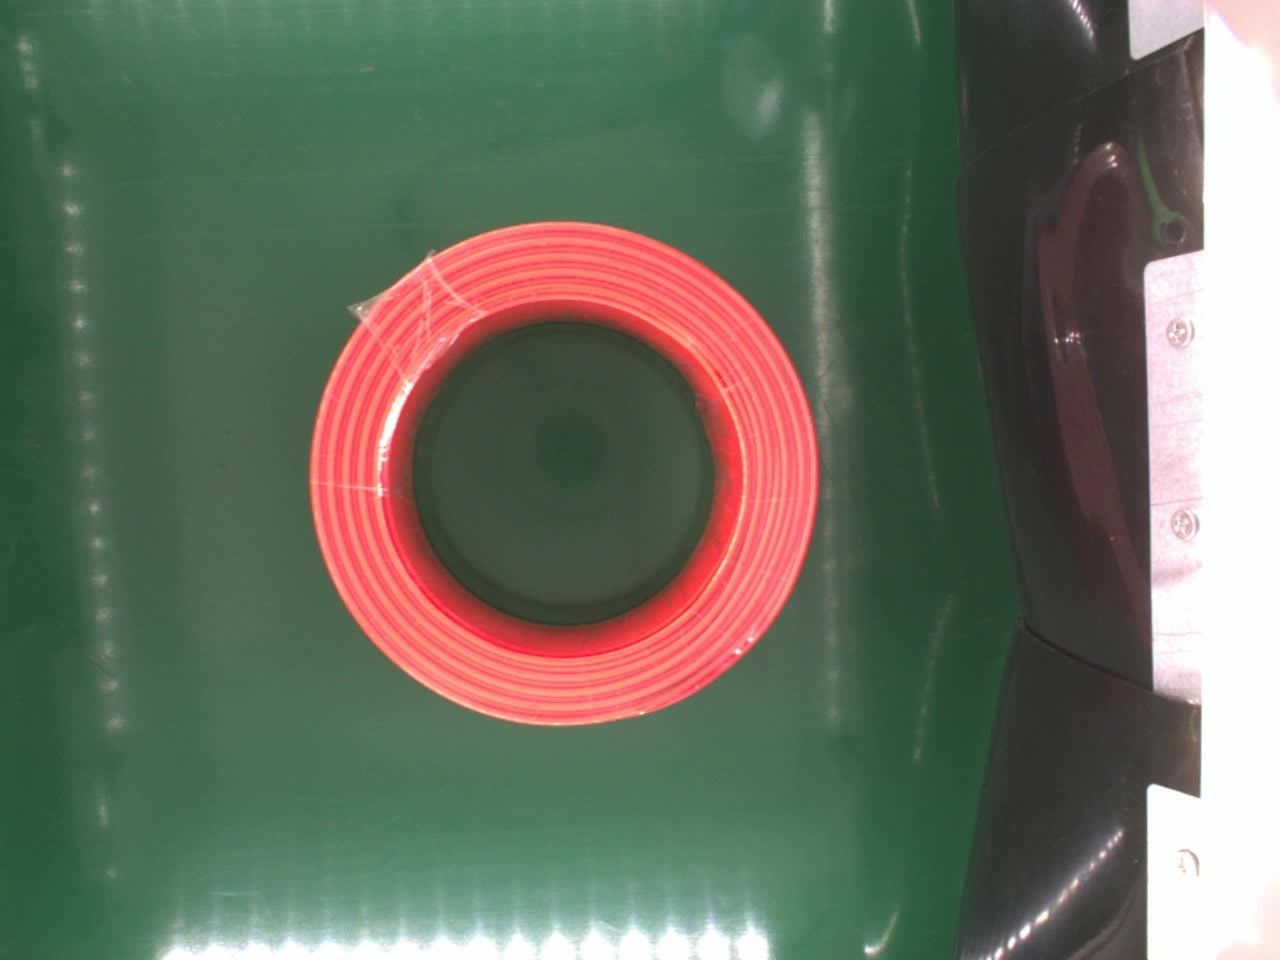red: (300, 215, 830, 739)
